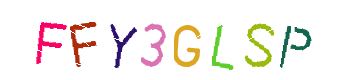3: (115, 0, 195, 80)
F: (7, 0, 87, 80), (40, 0, 120, 80)
G: (130, 0, 210, 80)
L: (147, 0, 227, 80)
P: (254, 0, 334, 80)
S: (203, 0, 283, 80)
Y: (81, 0, 161, 80)
